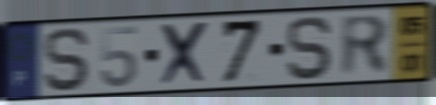5: (98, 24, 139, 89)
7: (220, 18, 264, 86)
R: (339, 13, 392, 80)
S: (284, 14, 336, 82), (42, 25, 93, 93)
X: (159, 19, 212, 89)
